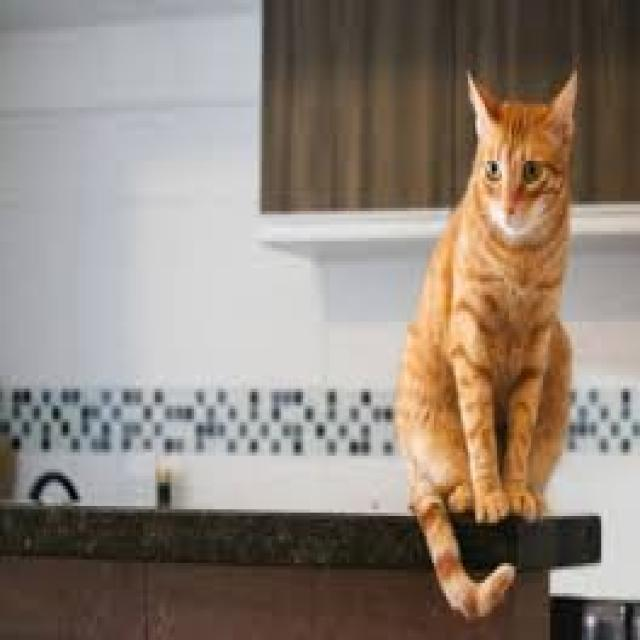cat: (384, 66, 592, 441)
